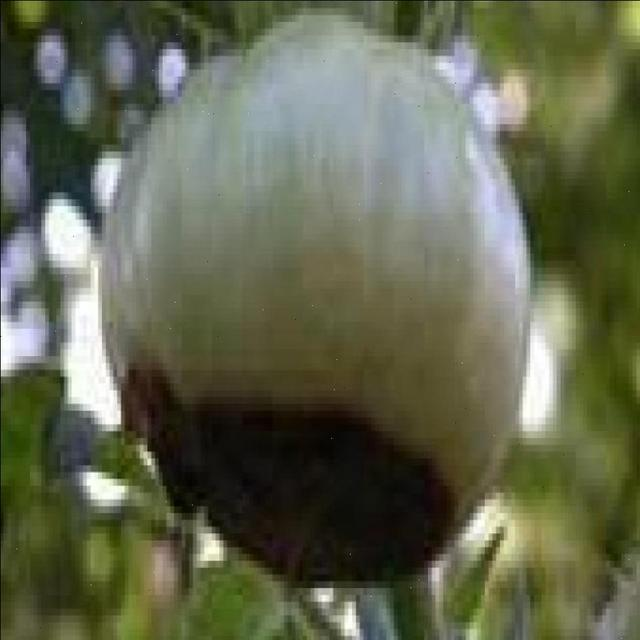Blossom End Rot Fruit: (74, 237, 302, 387)
